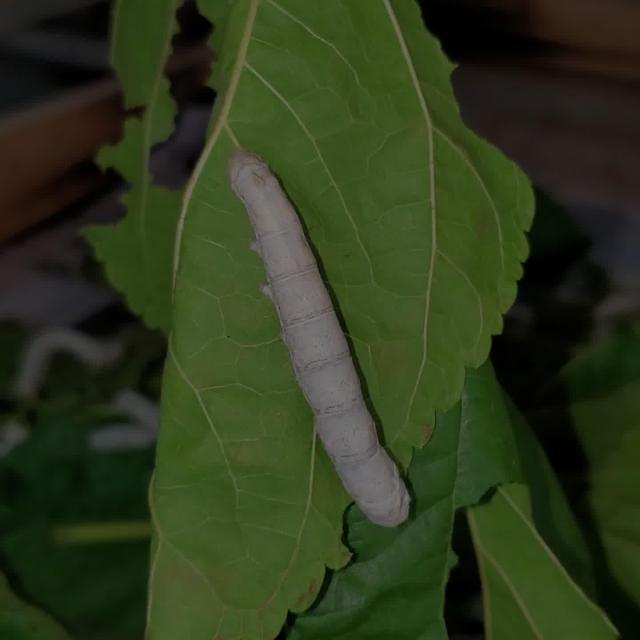Healthy: (222, 146, 418, 530)
